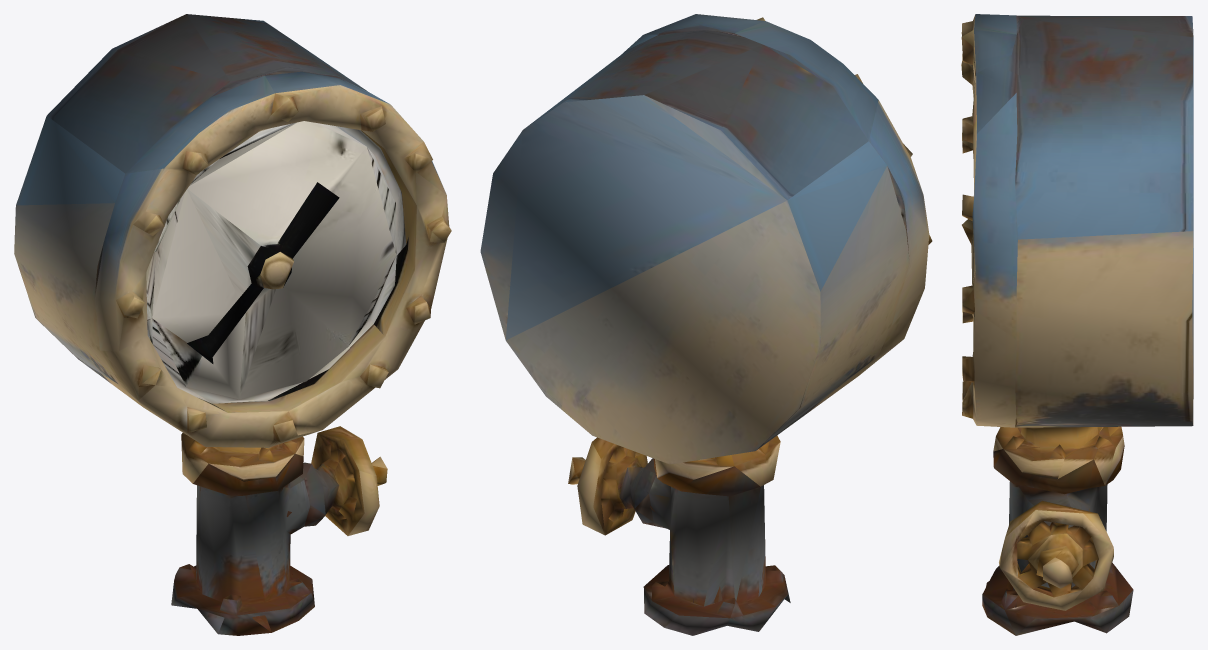
Rendered from lhi_pressure_gauge.glb.
The picture shows the model from 3 angles, left to right: view 1: azimuth 30°, elevation 25°; view 2: azimuth 150°, elevation 25°; view 3: azimuth 270°, elevation 25°; orthographic projection. The views are drawn at different scales.
Parts seen in each view (by area): view 1: material; view 2: material; view 3: material.
Boxes of the visible parts, x1,y1,x2,y2 form: material: (14,14,451,635); material: (480,14,932,635); material: (961,14,1193,635).
Bounding box in the file's own units: 0.7355 × 1.14 × 0.4163.
1 material, 1 textured.
